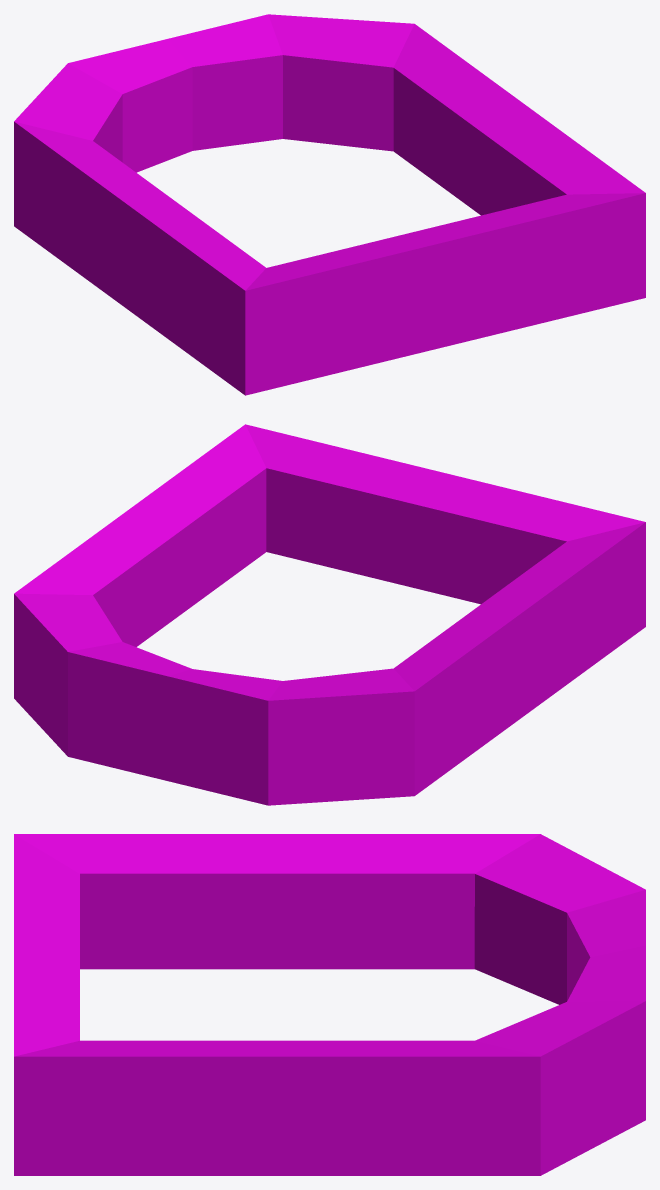
File: Archway.fbx
3 renders of one model, top to bottom at view 1: azimuth 30°, elevation 25°; view 2: azimuth 150°, elevation 25°; view 3: azimuth 270°, elevation 25°, orthographic. The views are drawn at different scales.
Parts seen in each view (by area): view 1: Archway; view 2: Archway; view 3: Archway.
Part boxes in pixels (x1=…): Archway: x1=14, y1=14, x2=645, y2=395; Archway: x1=14, y1=424, x2=645, y2=805; Archway: x1=14, y1=834, x2=645, y2=1175.
Size of the model in its own units: 80000 by 20000 by 96000.
